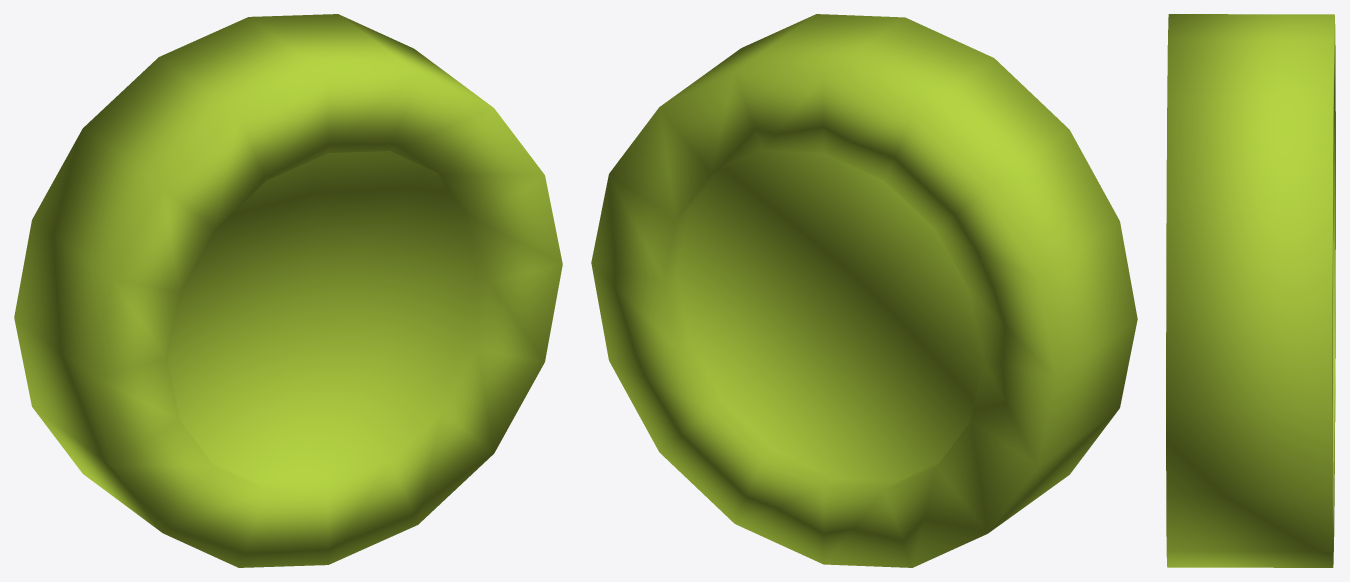
The model's file is CoinGold01.dae.
3 renders of one model, left to right at view 1: azimuth 30°, elevation 25°; view 2: azimuth 150°, elevation 25°; view 3: azimuth 270°, elevation 25°, orthographic. The views are drawn at different scales.
Visible parts, largest first — view 1: Coin.01; view 2: Coin.01; view 3: Coin.01.
Part boxes in pixels (bbox=[...]): Coin.01: bbox=[14, 14, 562, 567]; Coin.01: bbox=[591, 14, 1137, 567]; Coin.01: bbox=[1166, 14, 1335, 567].
Size of the model in its own units: 0.501 by 0.1533 by 0.5.
